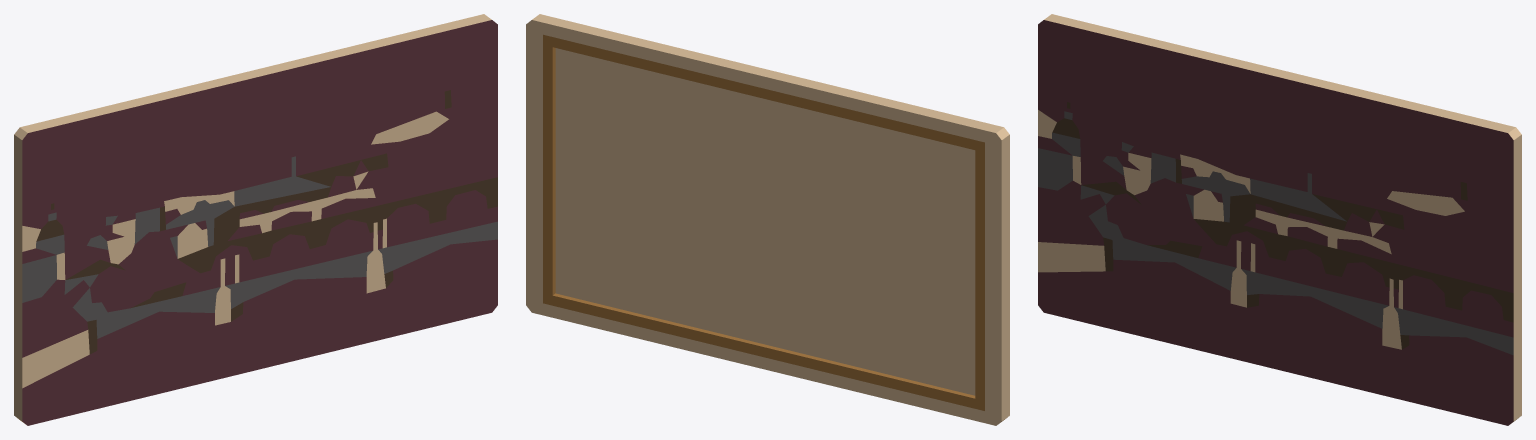
The model's file is picture-city-panorama.fbx.
3 renders of one model, left to right at view 1: azimuth 30°, elevation 25°; view 2: azimuth 150°, elevation 25°; view 3: azimuth 330°, elevation 25°, orthographic.
Parts seen in each view (by area): view 1: picture-city-panorama; view 2: picture-city-panorama; view 3: picture-city-panorama.
Boxes of the visible parts, bbox=[...] form: picture-city-panorama: bbox=[14, 14, 497, 425]; picture-city-panorama: bbox=[526, 14, 1009, 425]; picture-city-panorama: bbox=[1038, 14, 1521, 425].
Bounding box in the file's own units: 1.7 × 1 × 0.0498.
